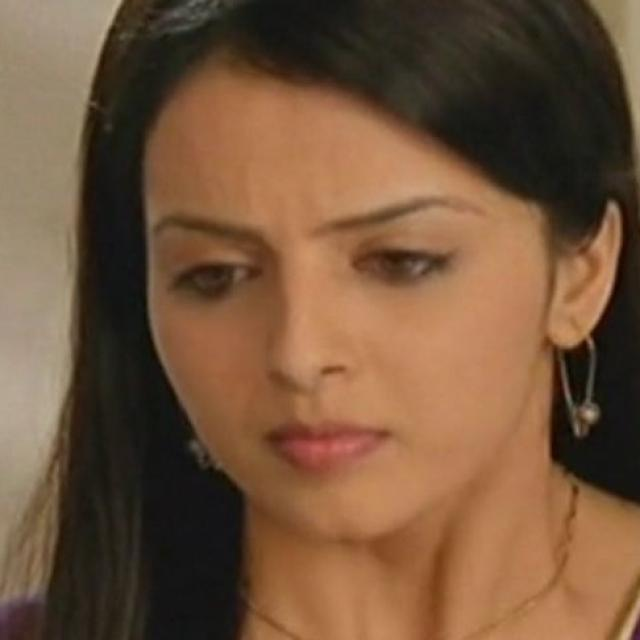Depress: (140, 56, 541, 547)
